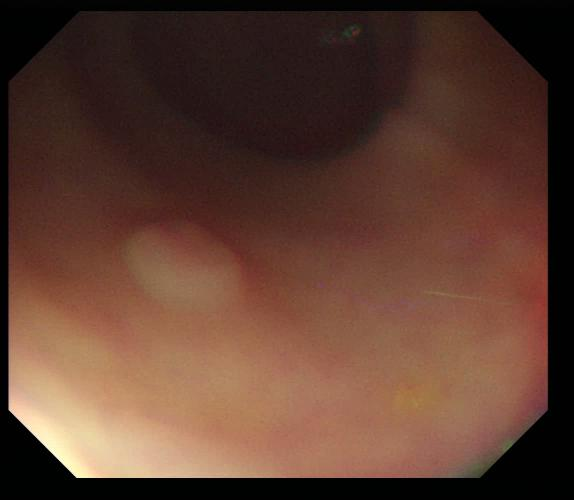polyp: (128, 217, 245, 306)
